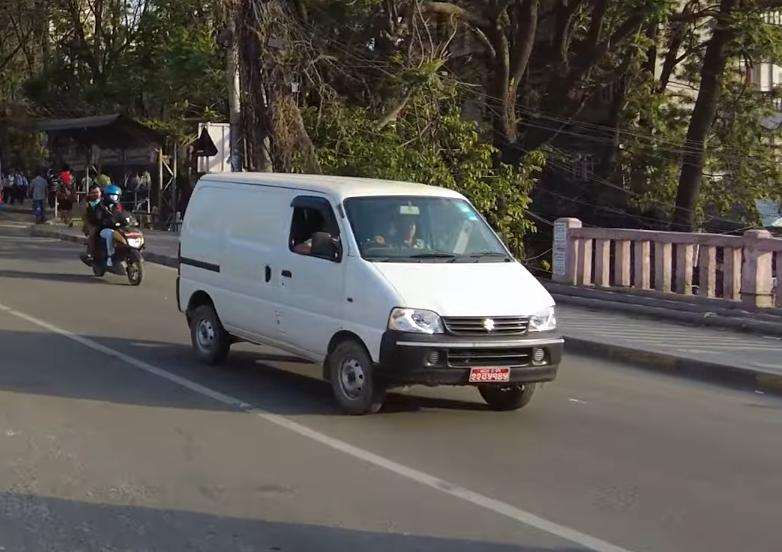scooter: (81, 207, 150, 288)
van: (177, 163, 574, 418)
